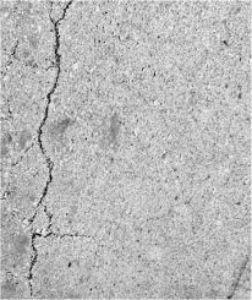crack: (24, 0, 76, 300)
